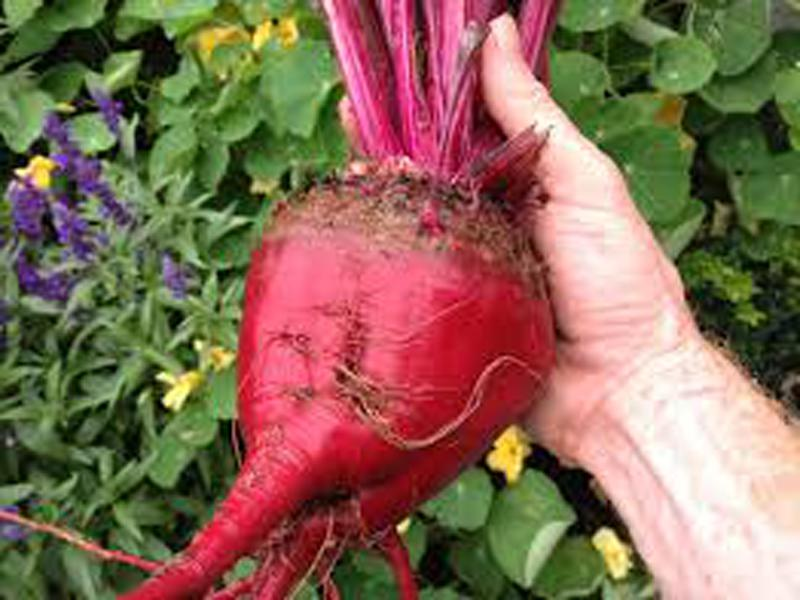Beet: (127, 3, 555, 600)
